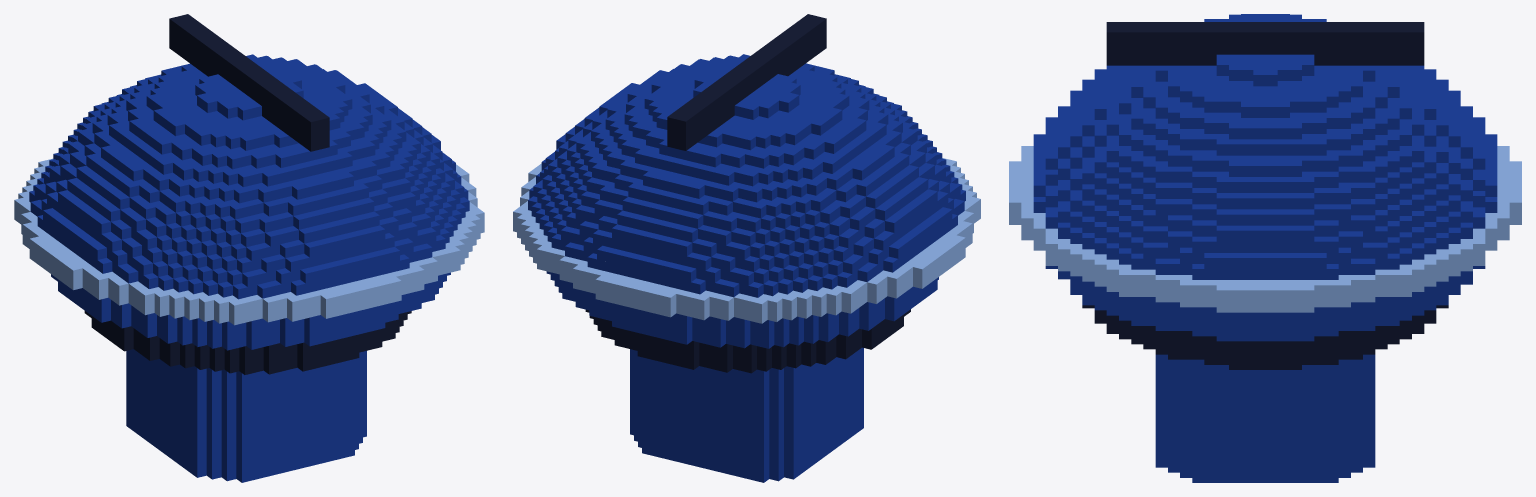
File: armor_heavy_worn_upper.glb
3 views of the same model, side by side, from view 1: azimuth 30°, elevation 25°; view 2: azimuth 150°, elevation 25°; view 3: azimuth 270°, elevation 25° (orthographic). The views are drawn at different scales.
Parts seen in each view (by area): view 1: armor_heavy_worn_upper:compound; view 2: armor_heavy_worn_upper:compound; view 3: armor_heavy_worn_upper:compound.
Part boxes in pixels (<box>): armor_heavy_worn_upper:compound: <box>14,14,484,482</box>; armor_heavy_worn_upper:compound: <box>513,14,980,482</box>; armor_heavy_worn_upper:compound: <box>1009,14,1521,482</box>.
Bounding box in the file's own units: 0.504 × 0.444 × 0.504.
